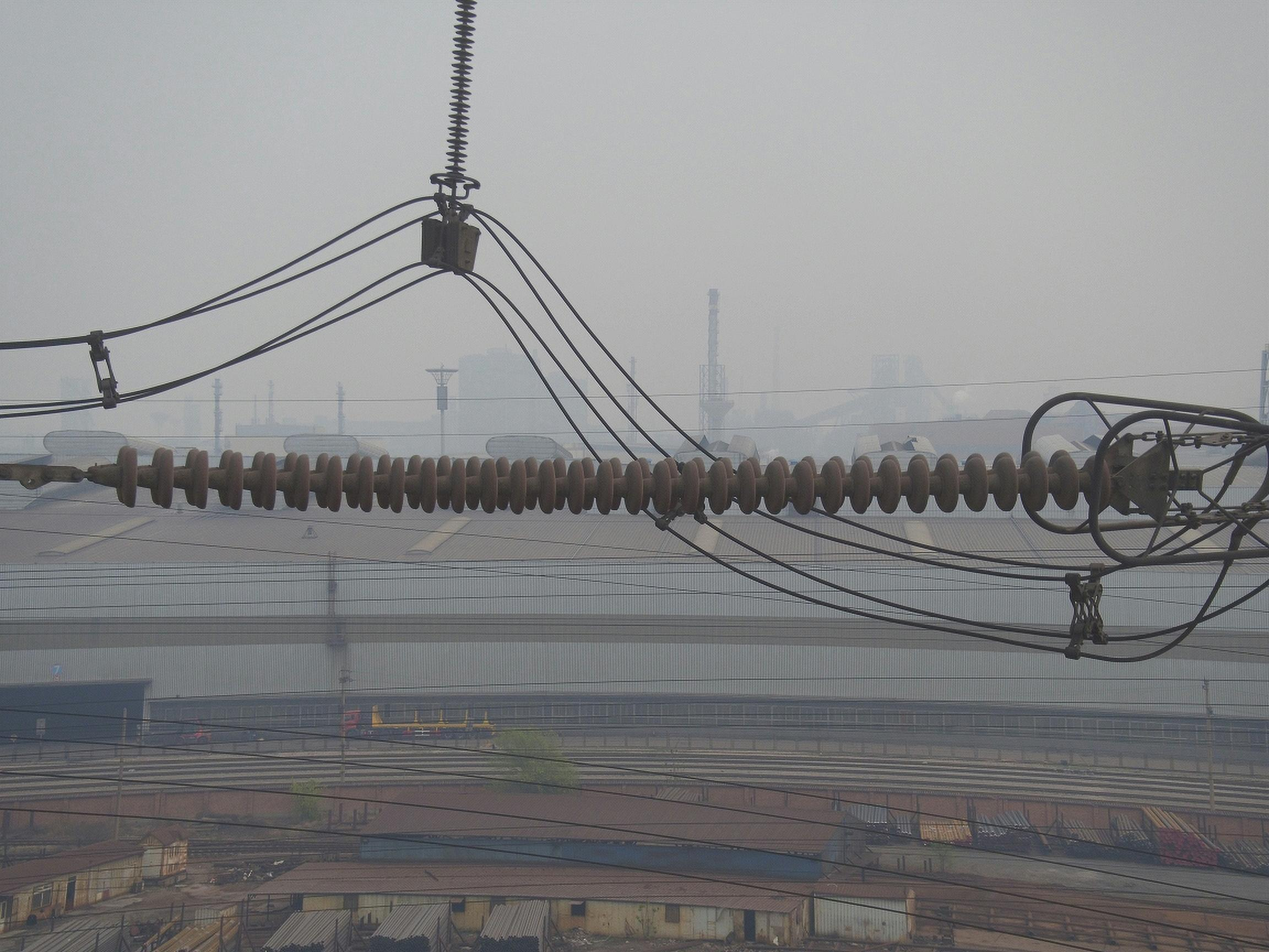insulator: (111, 438, 1116, 522), (440, 1, 480, 187)
